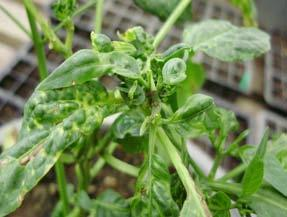Tomato leaf mosaic virus: (4, 78, 115, 208), (162, 94, 222, 143), (135, 154, 180, 217)
